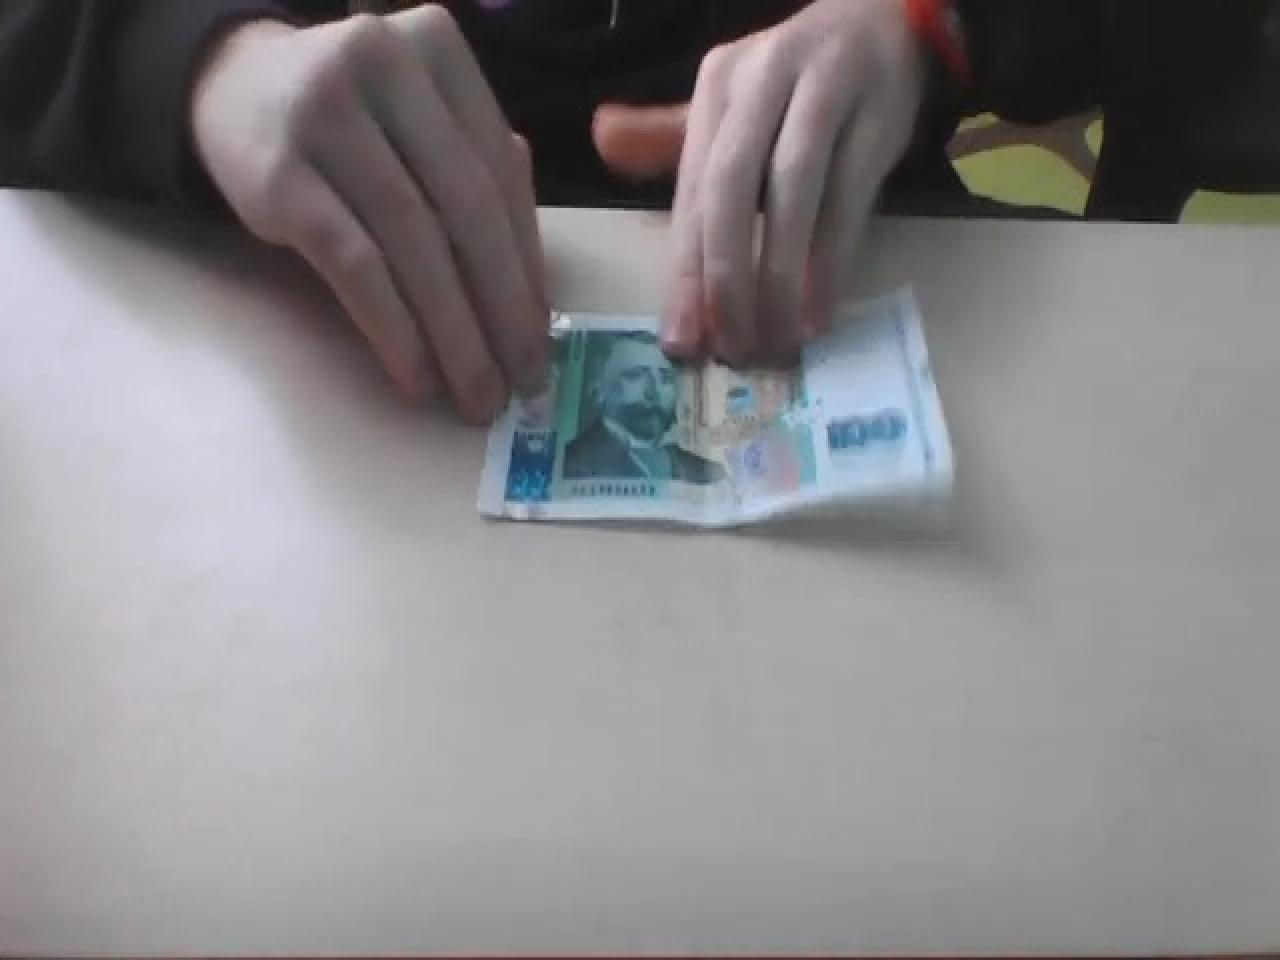100leva: (474, 285, 959, 536)
